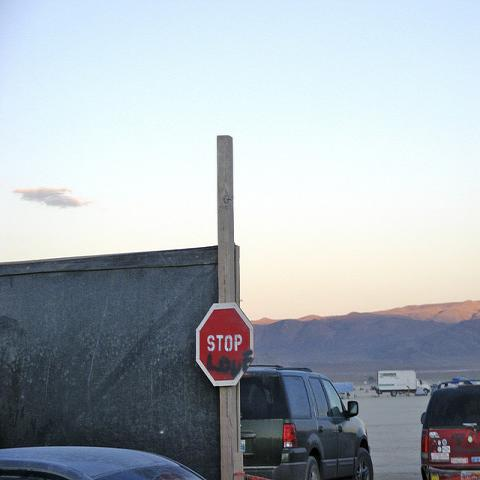car: (239, 364, 372, 479), (0, 445, 208, 479), (421, 379, 479, 479)
truck: (420, 380, 479, 479), (378, 370, 433, 395)
